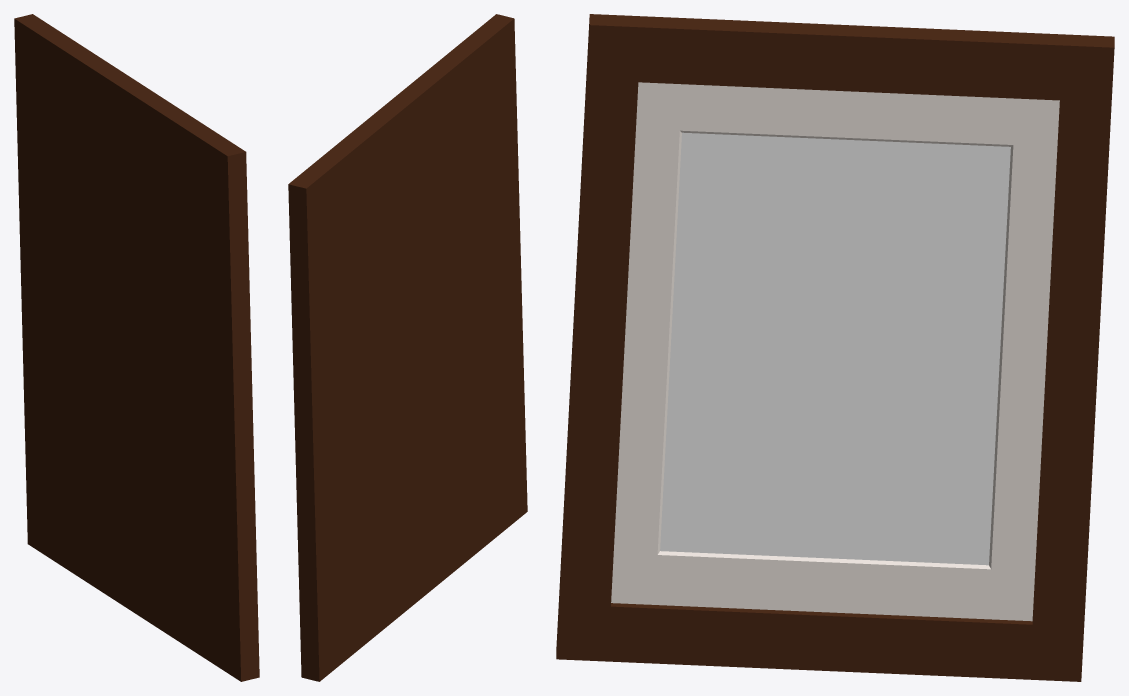
The model's file is Brown Frame 1.fbx.
3 views of the same model, side by side, from view 1: azimuth 30°, elevation 25°; view 2: azimuth 150°, elevation 25°; view 3: azimuth 270°, elevation 25° (orthographic). The views are drawn at different scales.
Visible parts, largest first — view 1: smallFrame_galleryWallsMaterial_0; view 2: smallFrame_galleryWallsMaterial_0; view 3: smallFrame_galleryWallsMaterial_0.
Part boxes in pixels (box(x1,y1,x2,y2)): smallFrame_galleryWallsMaterial_0: box(14, 14, 259, 681); smallFrame_galleryWallsMaterial_0: box(288, 14, 527, 681); smallFrame_galleryWallsMaterial_0: box(556, 14, 1114, 681).
Size of the model in its own units: 5.36 by 148 by 114.
